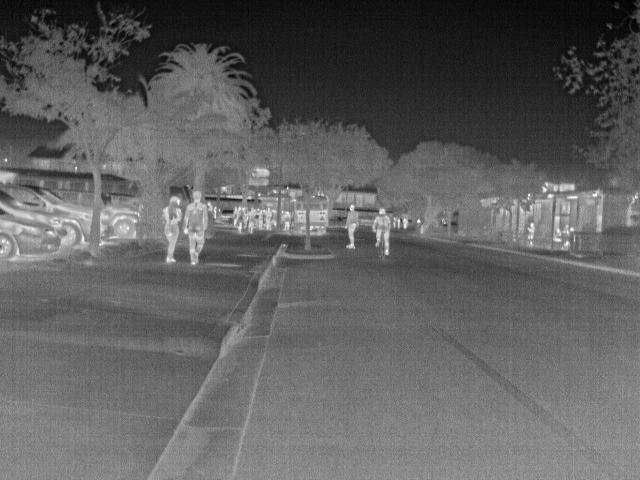car: (2, 180, 95, 251), (1, 204, 61, 266), (105, 203, 139, 241), (219, 208, 237, 223)
person: (182, 190, 211, 269), (162, 193, 186, 264), (371, 207, 392, 255), (345, 204, 359, 248), (245, 204, 258, 234), (233, 206, 247, 232), (263, 205, 275, 231), (524, 219, 536, 239), (551, 227, 563, 243), (401, 218, 410, 230), (396, 216, 403, 230), (391, 214, 397, 228)
